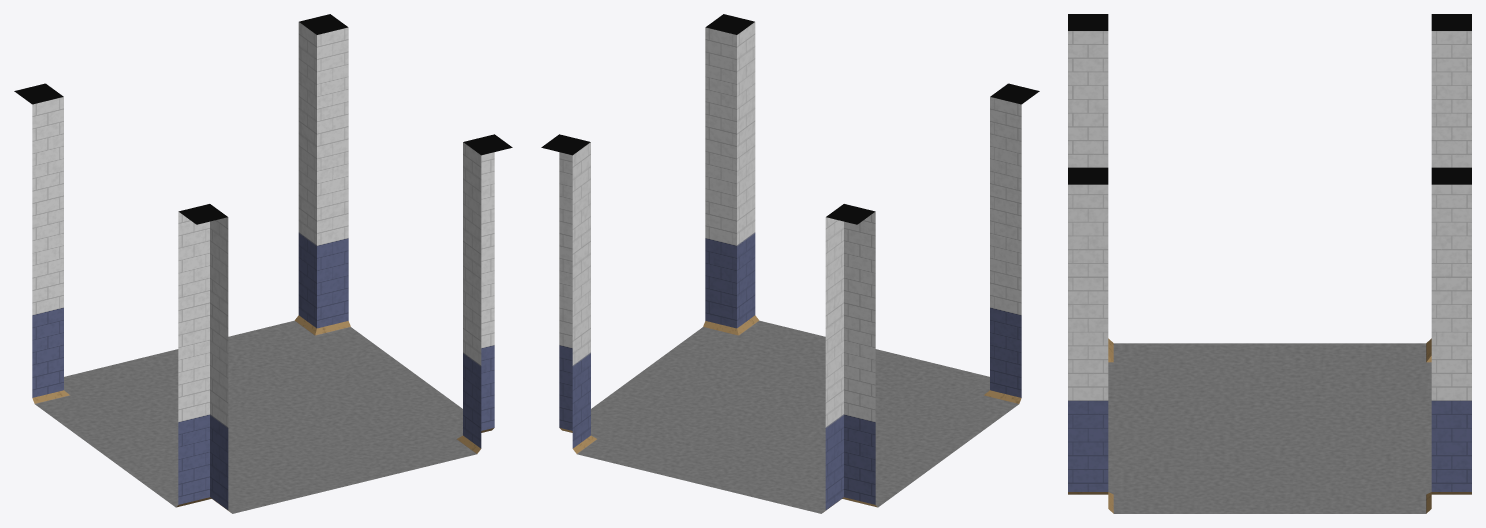
The model's file is hallwayCrossing.glb.
3 renders of one model, left to right at view 1: azimuth 30°, elevation 25°; view 2: azimuth 150°, elevation 25°; view 3: azimuth 270°, elevation 25°, orthographic. The views are drawn at different scales.
Parts seen in each view (by area): view 1: Plane.001; view 2: Plane.001; view 3: Plane.001.
Part boxes in pixels (x1=…): Plane.001: x1=14, y1=14, x2=512, y2=513; Plane.001: x1=541, y1=14, x2=1039, y2=513; Plane.001: x1=1068, y1=14, x2=1471, y2=513.
Size of the model in its own units: 10 by 9 by 10.
Materials: 1 (1 with a texture image).
